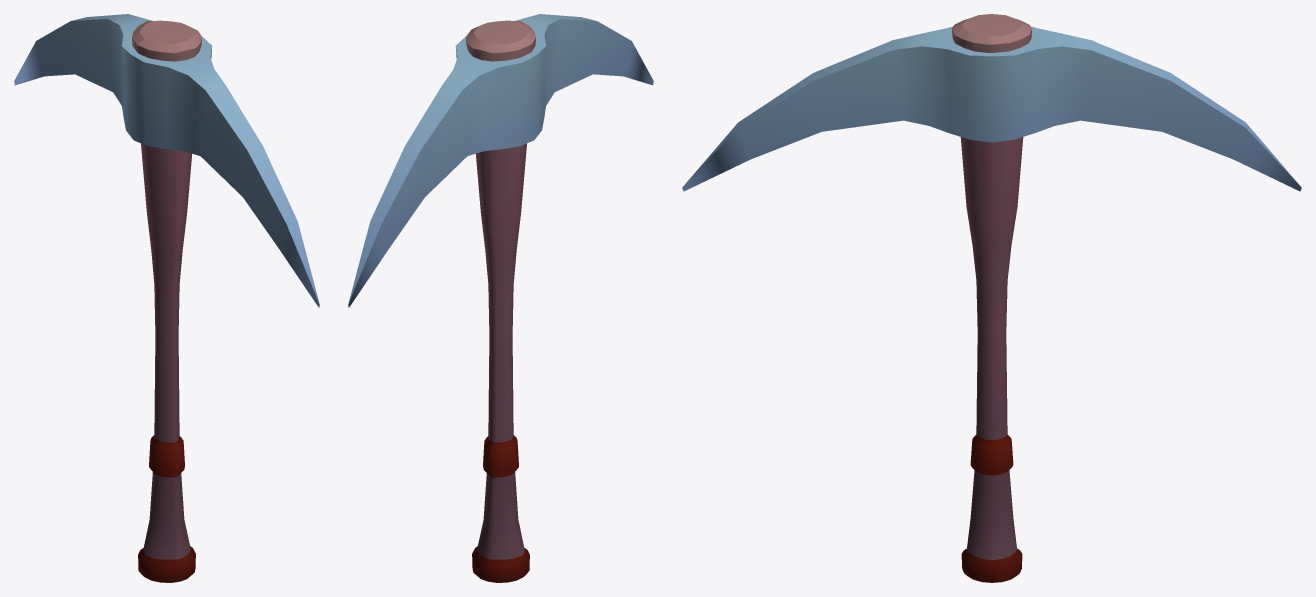
Rendered from Proto_PickAxe_02.fbx.
3 views of the same model, side by side, from view 1: azimuth 30°, elevation 25°; view 2: azimuth 150°, elevation 25°; view 3: azimuth 270°, elevation 25° (orthographic).
Parts seen in each view (by area): view 1: Proto_PickAxe_01; view 2: Proto_PickAxe_01; view 3: Proto_PickAxe_01.
Boxes of the visible parts, bbox=[...] form: Proto_PickAxe_01: bbox=[14, 14, 319, 582]; Proto_PickAxe_01: bbox=[348, 14, 653, 582]; Proto_PickAxe_01: bbox=[682, 14, 1301, 582].
Size of the model in its own units: 14.03 by 101 by 103.
